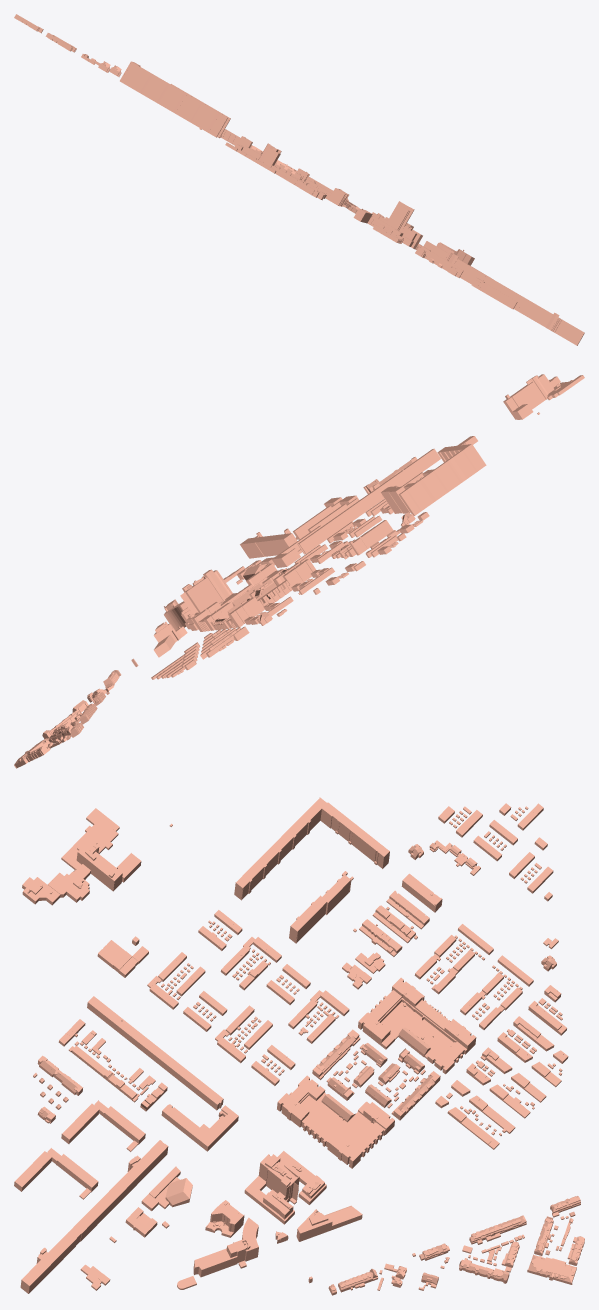
The picture shows the model from 3 angles, top to bottom: view 1: azimuth 30°, elevation 25°; view 2: azimuth 150°, elevation 25°; view 3: azimuth 270°, elevation 25°; orthographic projection. The views are drawn at different scales.
Size of the model in its own units: 532 by 401 by 642.
